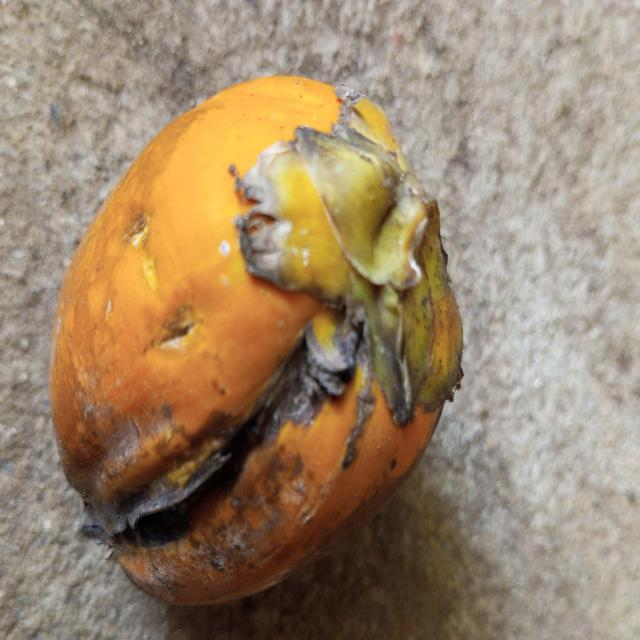damaged: (49, 76, 464, 611)
